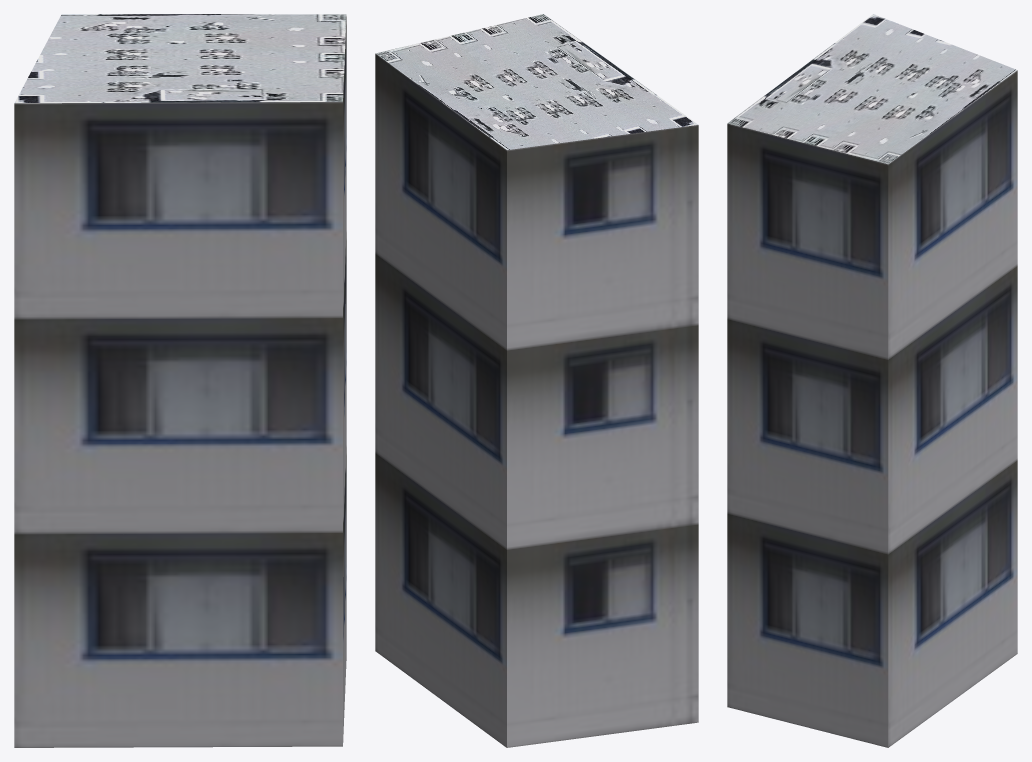
File: ResTex__3588.fbx
The picture shows the model from 3 angles, left to right: view 1: azimuth 30°, elevation 25°; view 2: azimuth 150°, elevation 25°; view 3: azimuth 270°, elevation 25°; orthographic projection. The views are drawn at different scales.
Visible parts, largest first — view 1: CityEngineMaterial_9_m, CityEngineMaterial_8_m; view 2: CityEngineMaterial_9_m, CityEngineMaterial_8_m; view 3: CityEngineMaterial_9_m, CityEngineMaterial_8_m.
Part boxes in pixels (x1,y1,x2,y2): CityEngineMaterial_9_m: (14, 16, 346, 747); CityEngineMaterial_8_m: (15, 14, 346, 103); CityEngineMaterial_9_m: (375, 53, 698, 747); CityEngineMaterial_8_m: (375, 14, 698, 149); CityEngineMaterial_9_m: (727, 70, 1017, 747); CityEngineMaterial_8_m: (727, 14, 1017, 164).
Bounding box in the file's own units: 4.97 × 9 × 4.06.
2 materials, 2 textured.
